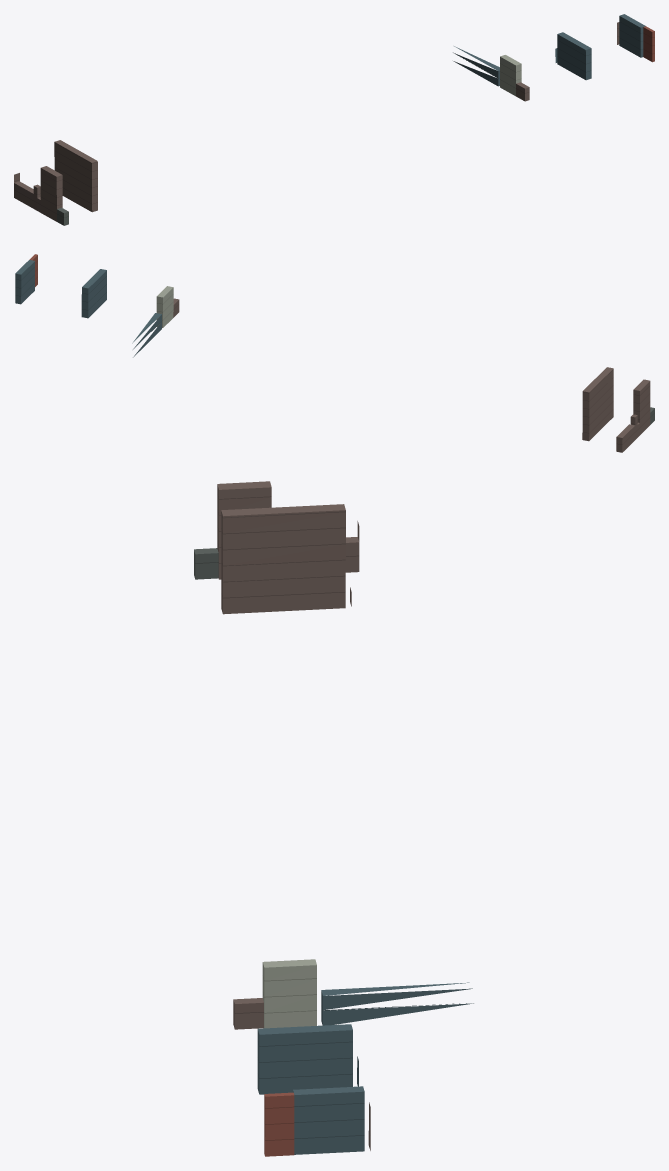
The model's file is terminal-29---121_-16.glb.
The picture shows the model from 3 angles, top to bottom: view 1: azimuth 30°, elevation 25°; view 2: azimuth 150°, elevation 25°; view 3: azimuth 270°, elevation 25°; orthographic projection. The views are drawn at different scales.
Parts seen in each view (by area): view 1: measured-industrial; view 2: measured-industrial; view 3: measured-industrial.
Boxes of the visible parts, x1,y1,x2,y2 form: measured-industrial: (14, 14, 654, 225); measured-industrial: (15, 254, 654, 452); measured-industrial: (194, 481, 473, 1156).
Bounding box in the file's own units: 239 × 18.4 × 47.73.
